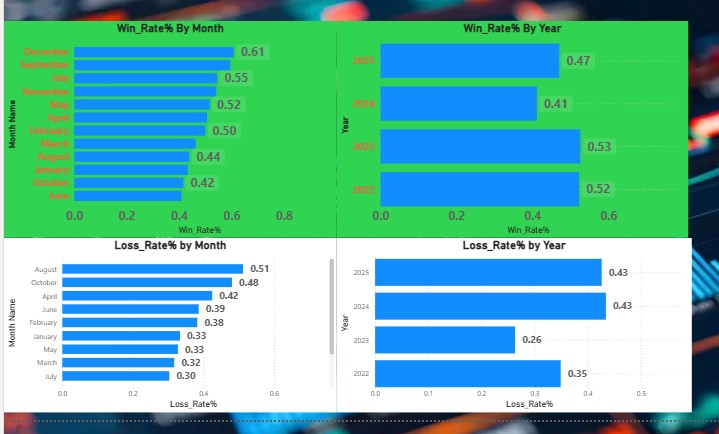

This screenshot's page, from the dashboard's own definition file:
{"tool":"powerbi","page":{"name":"Page 2","canvas":[1280,720],"ordinal":1},"visuals":[{"type":"clusteredBarChart","title":"Win_Rate% By Month","fields":{"Y":["Trade Data(Merged).Win_Rate%"],"Category":["Trade Data(Merged).Month Name"]},"box":[0,49.8,559,364.4],"z":0},{"type":"clusteredBarChart","title":"Loss_Rate% by Month","fields":{"Y":["Trade Data(Merged).Loss_Rate%"],"Category":["Trade Data(Merged).Month Name"]},"box":[0,414.1,559,292.7],"z":1000},{"type":"clusteredBarChart","title":"Win_Rate% By Year","fields":{"Y":["Trade Data(Merged).Win_Rate%"],"Category":["Trade Data(Merged).Year"]},"box":[559,49.8,589.8,364.4],"z":2000},{"type":"clusteredBarChart","title":"Loss_Rate% by Year","fields":{"Y":["Trade Data(Merged).Loss_Rate%"],"Category":["Trade Data(Merged).Year"]},"box":[559,414.1,595.6,292.7],"z":3000}]}

Visuals, with their boxes on the page's 1280x720 design canvas (x1, y1, x2, y2). These are canvas units, not pixel positions in the 719x434 screenshot, which may show the page scaled, cropped or inside an application window:
"Win_Rate% By Month" clusteredBarChart: box=[0, 50, 559, 414]
"Loss_Rate% by Month" clusteredBarChart: box=[0, 414, 559, 707]
"Win_Rate% By Year" clusteredBarChart: box=[559, 50, 1149, 414]
"Loss_Rate% by Year" clusteredBarChart: box=[559, 414, 1155, 707]
